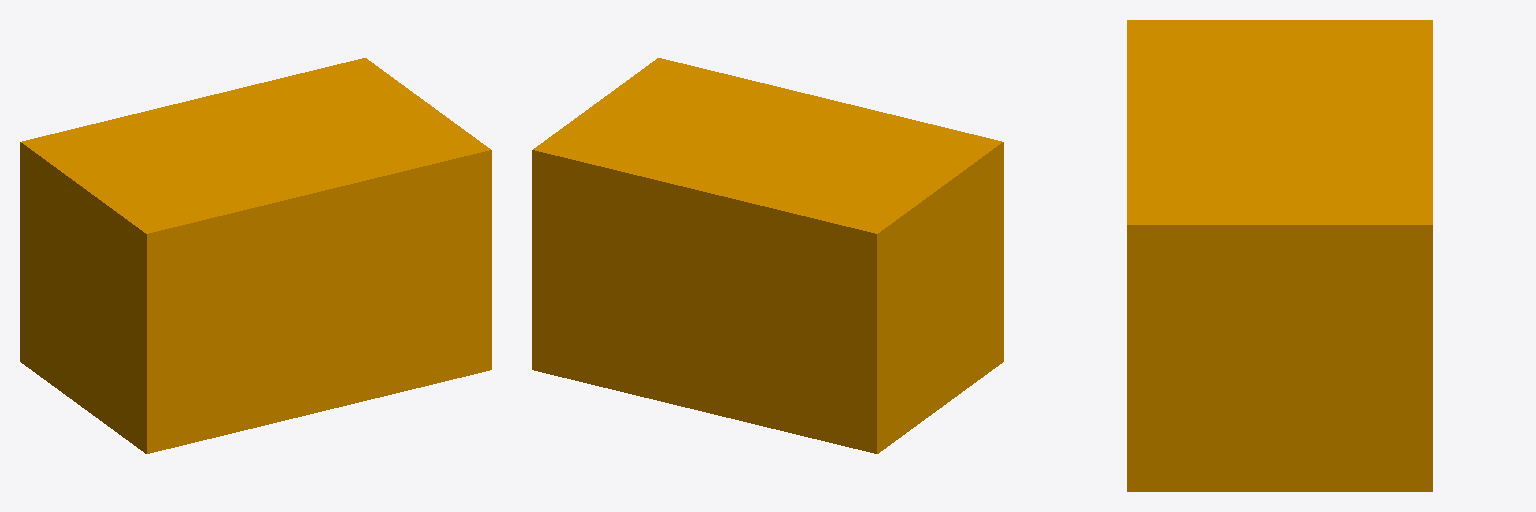
The robot description file, URDF, robot "object":
<?xml version="1.0"?>
<!-- Auto-generated by tools/gen_primitive_objects.py. kind=box dims=(0.09394, 0.059432, 0.057316) -->
<robot name="object">
  <link name="object">
    <visual>
      <origin xyz="0 0 0"/>
      <geometry>
        <box size="0.093940 0.059432 0.057316"/>
      </geometry>
    </visual>
    <collision>
      <origin xyz="0 0 0"/>
      <geometry>
        <box size="0.093940 0.059432 0.057316"/>
      </geometry>
    </collision>
    <inertial>
      <mass value="0.064000"/>
      <inertia ixx="0.00003636" ixy="0.0" ixz="0.0" iyy="0.00006459" iyz="0.0" izz="0.00006590"/>
    </inertial>
  </link>
</robot>

--- Facts derived from the render (not from the file) ---
3 views of the same robot in one strip: view 1: azimuth 30°, elevation 25°; view 2: azimuth 150°, elevation 25°; view 3: azimuth 270°, elevation 25° (orthographic).
Robot: object — 1 links, 0 joints (none); root link object; default pose: all joints at 0.
Links seen in each view (by area): view 1: object; view 2: object; view 3: object.
Boxes of the visible links, x1,y1,x2,y2 form: object: (20, 58, 491, 453); object: (532, 58, 1003, 453); object: (1127, 20, 1432, 491).
Size in the robot's own frame: 0.0939 by 0.0594 by 0.0573 metres.
Geometry: primitives only (box / cylinder / sphere), no mesh files.
